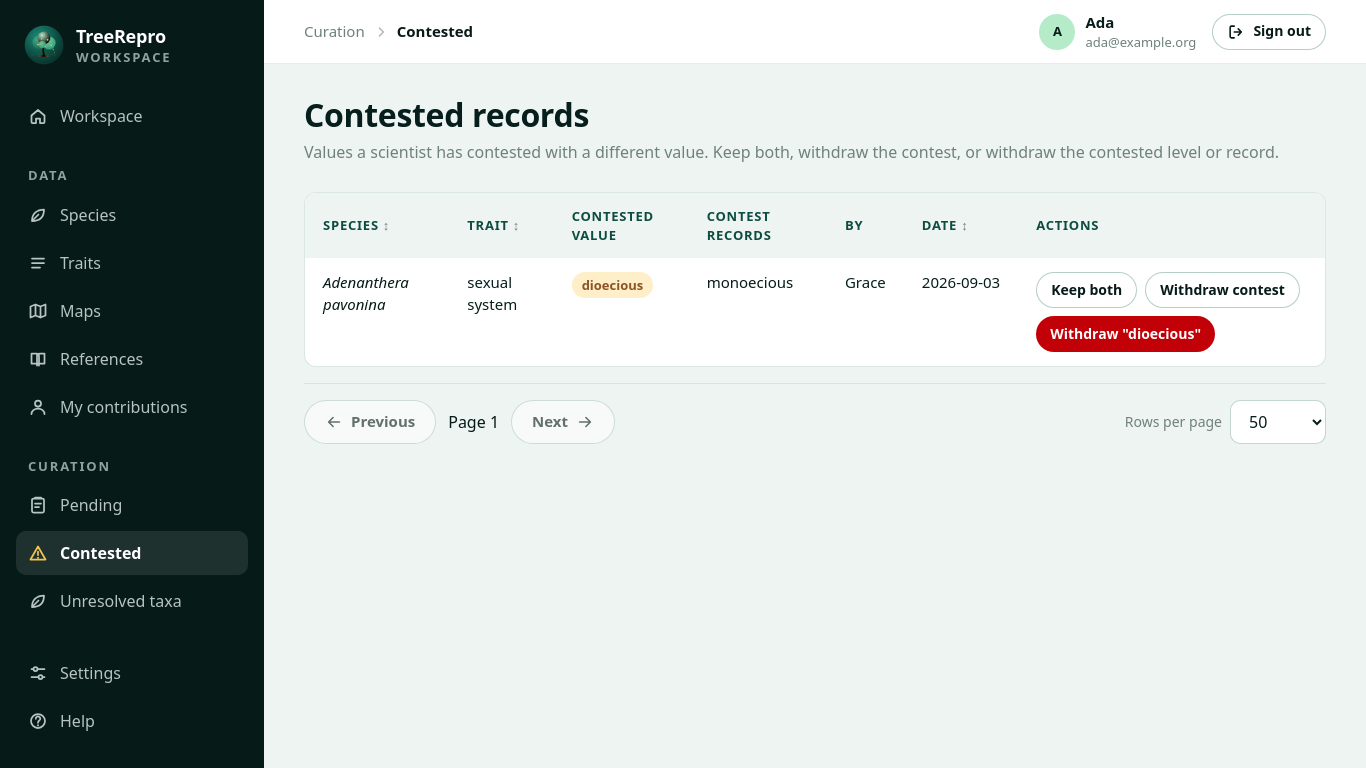
Test: RFC-65 R10 DisputedPage is the contested queue › Withdraw level withdraws the named level; a refusal stays in the dialog with the error
Click the button "Withdraw \"dioecious\"".
click(1126, 334)  # box [1036,316,1215,352]
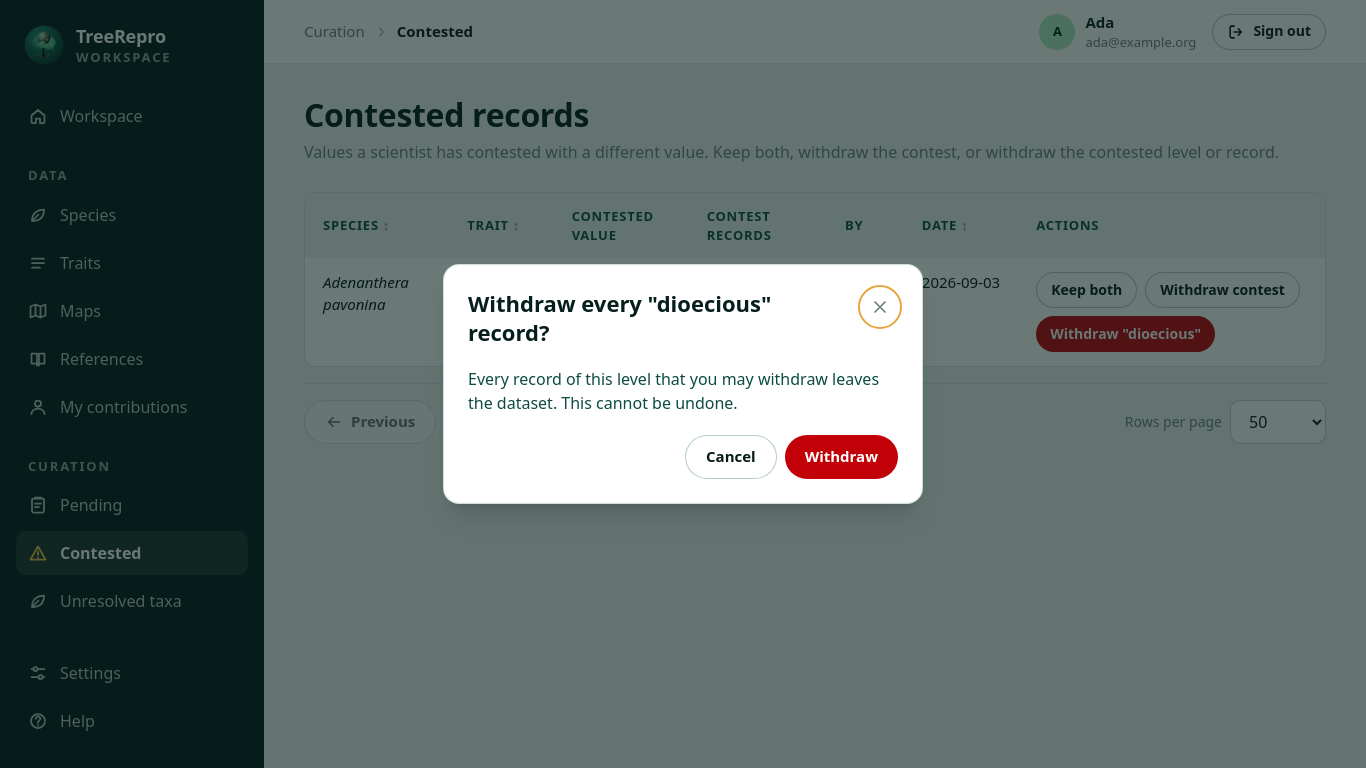
Click the button "Withdraw".
click(841, 457)  # box [785,435,898,479]
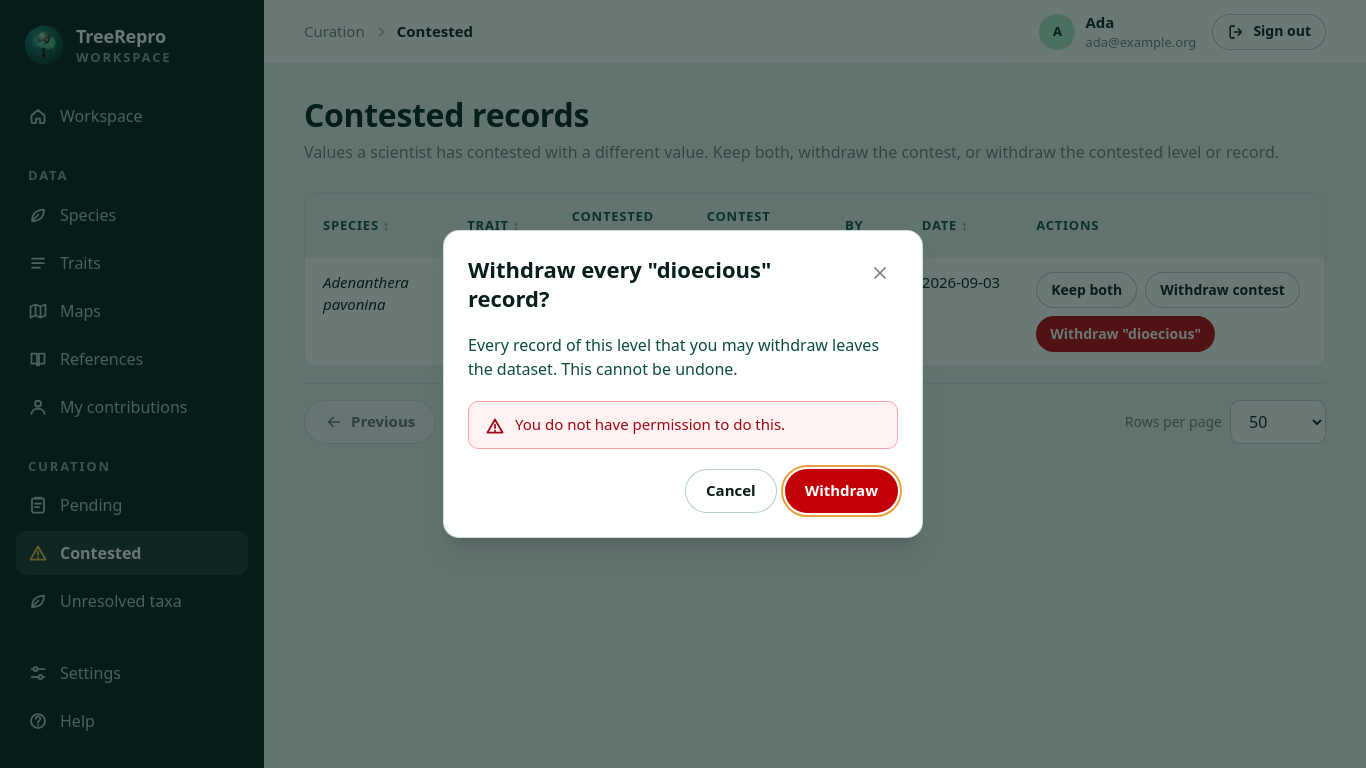
Now the message reads "You do not have permission to do this.", box [515,414,785,434]
Click the button "Withdraw".
click(841, 491)  # box [785,469,898,513]
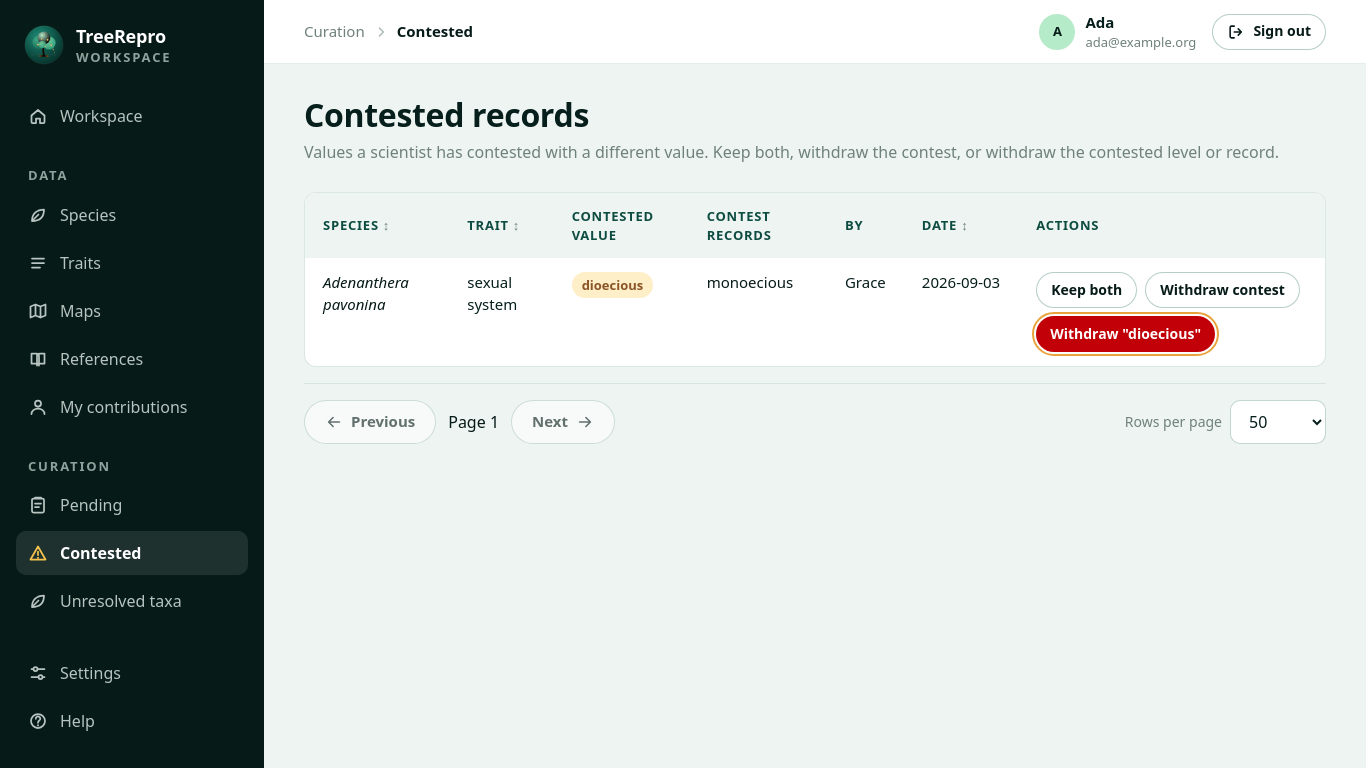
Now the dialog is gone
